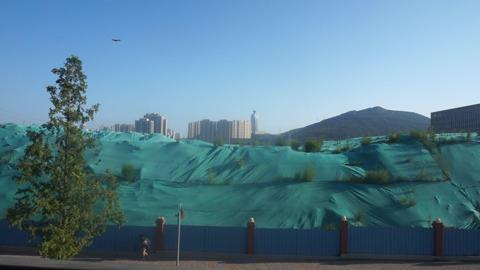UAV: (112, 39, 122, 42)
